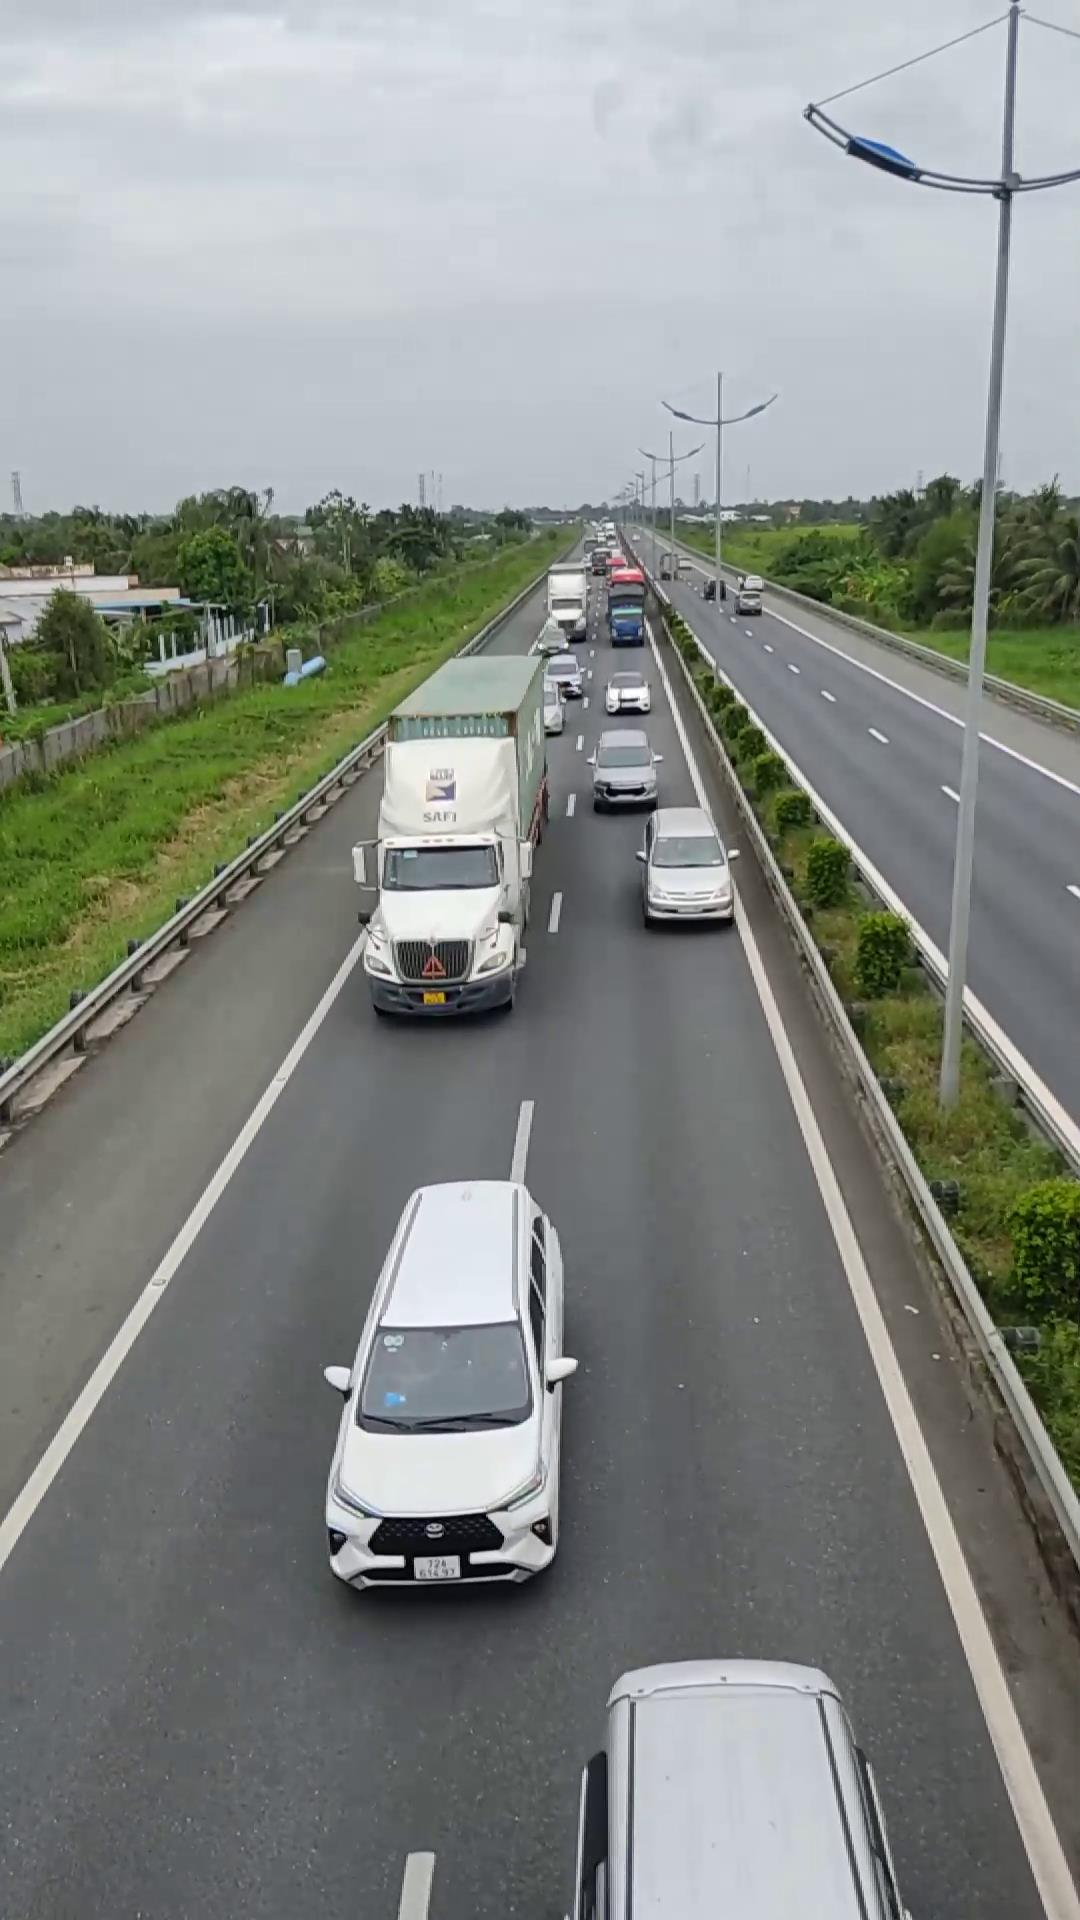car: (318, 1175, 578, 1596), (564, 1656, 905, 1919), (635, 805, 738, 928), (586, 730, 660, 810)
container: (356, 649, 553, 1020)
